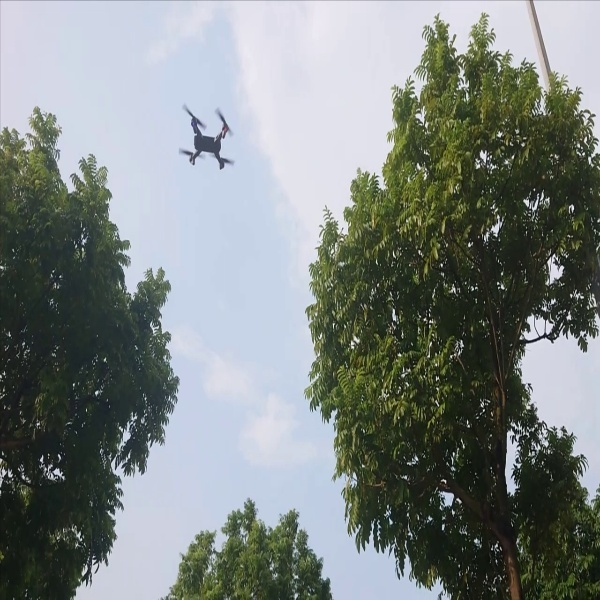drone: (172, 94, 247, 178)
